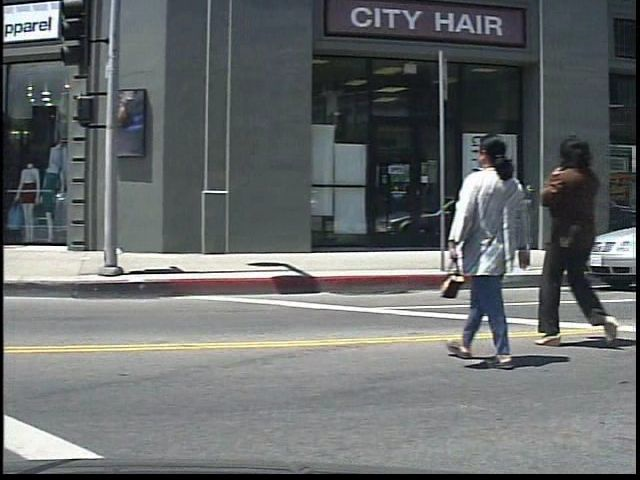person: (460, 121, 541, 371), (542, 125, 626, 352)
